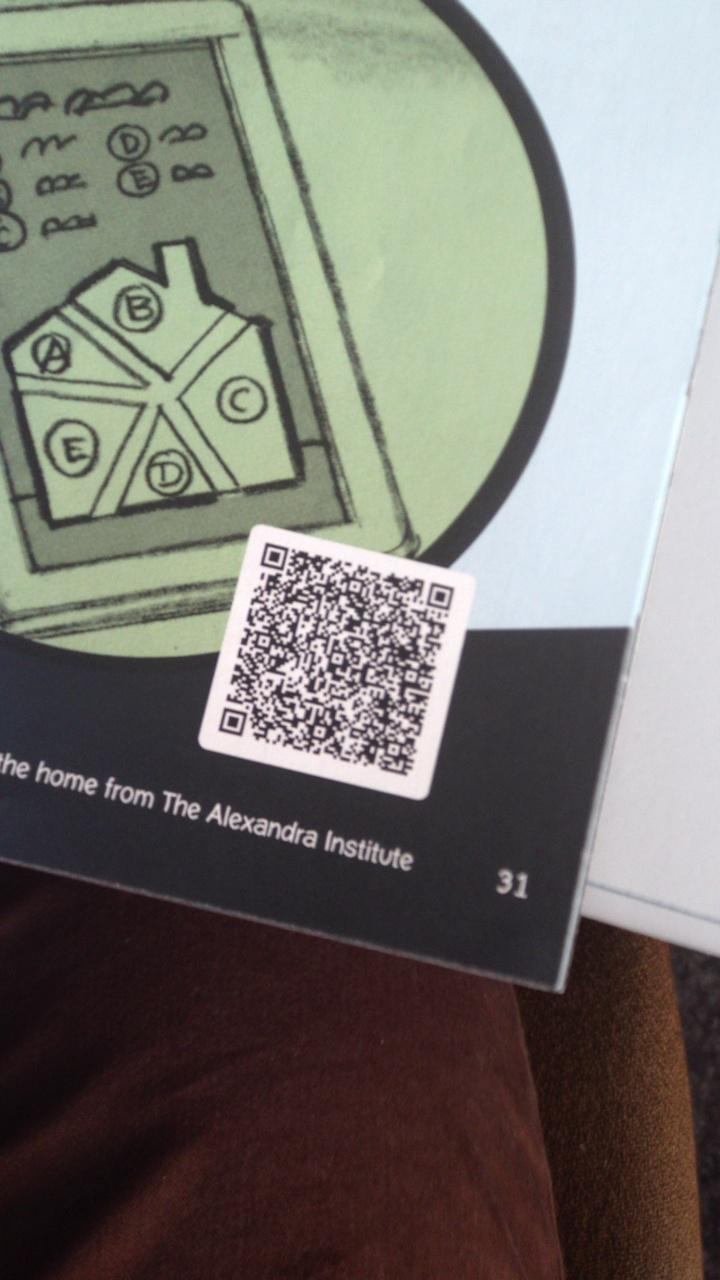qr_code: (218, 541, 455, 777)
